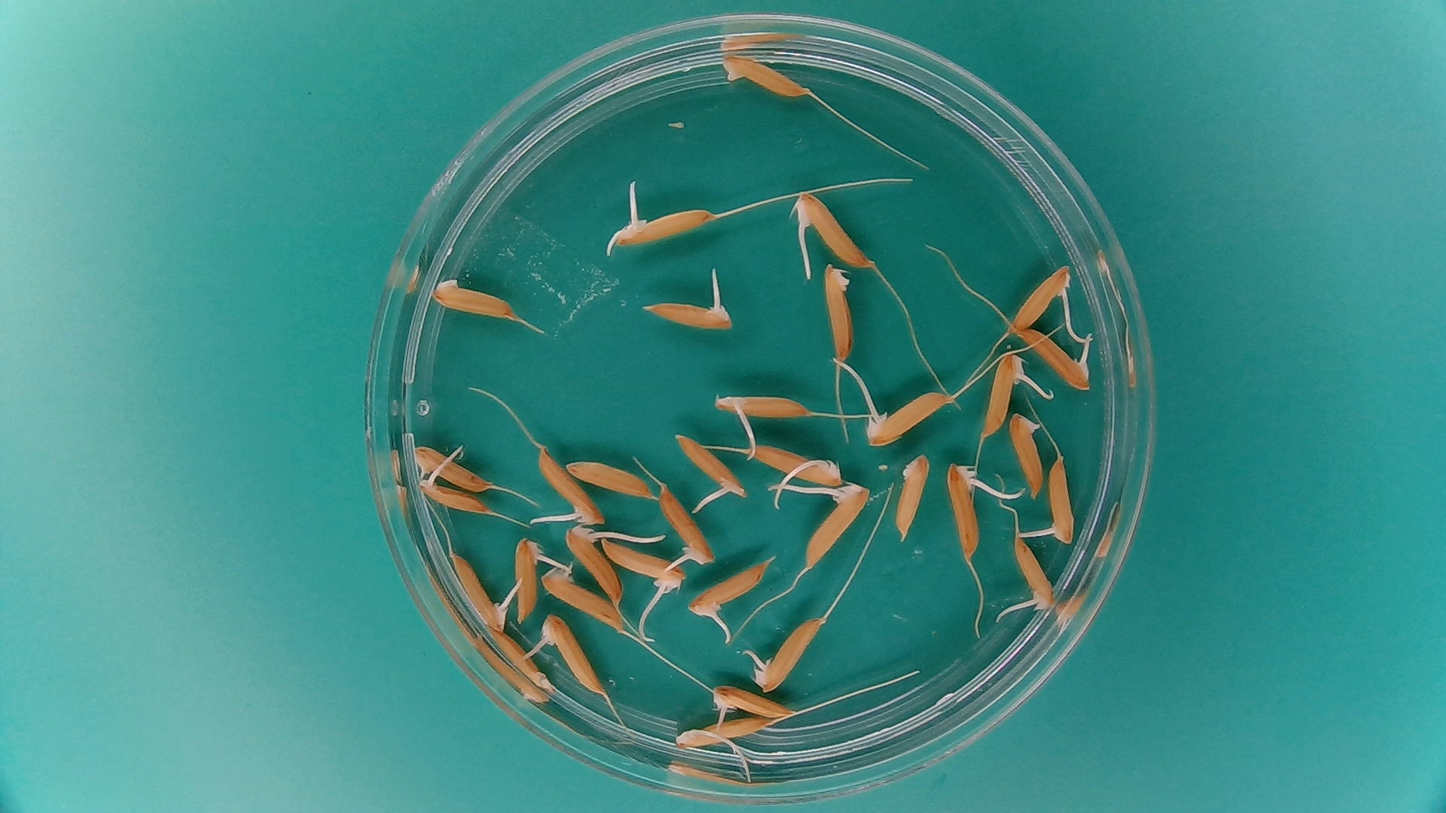no: (715, 49, 809, 99), (426, 273, 520, 322), (818, 257, 859, 368), (491, 629, 555, 697), (564, 454, 655, 498), (415, 442, 493, 489), (892, 451, 933, 540), (1009, 412, 1047, 496)
yes: (792, 193, 877, 270), (801, 483, 869, 573), (541, 562, 625, 634), (682, 556, 775, 620), (754, 613, 827, 693), (539, 612, 608, 696), (532, 443, 602, 525), (447, 549, 514, 634), (861, 387, 951, 449), (673, 429, 749, 501), (1016, 326, 1094, 393), (599, 536, 685, 596), (563, 523, 625, 605), (942, 459, 991, 561), (657, 481, 716, 565), (641, 284, 738, 334), (1008, 262, 1075, 330), (741, 439, 840, 481), (709, 387, 816, 425), (980, 352, 1026, 439), (614, 206, 713, 245), (1008, 534, 1056, 614), (673, 715, 773, 751), (1044, 451, 1078, 547), (710, 682, 792, 721), (410, 474, 490, 511), (511, 534, 543, 624)
